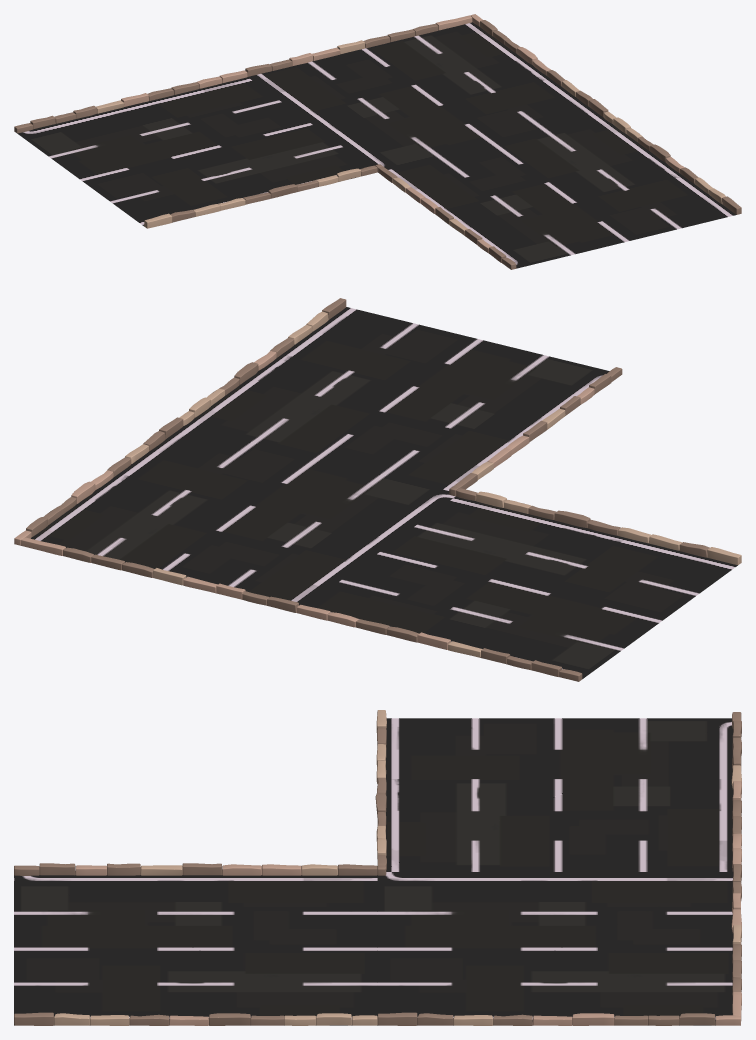
The model's file is CityRoad_90turnWide_0.fbx.
3 views of the same model, one above another, from view 1: azimuth 30°, elevation 25°; view 2: azimuth 150°, elevation 25°; view 3: azimuth 270°, elevation 25° (orthographic). The views are drawn at different scales.
Parts seen in each view (by area): view 1: CityRoad_90turnWide_0_mesh; view 2: CityRoad_90turnWide_0_mesh; view 3: CityRoad_90turnWide_0_mesh.
Boxes of the visible parts, x1=… form: CityRoad_90turnWide_0_mesh: x1=14, y1=14, x2=741, y2=269; CityRoad_90turnWide_0_mesh: x1=14, y1=298, x2=741, y2=681; CityRoad_90turnWide_0_mesh: x1=14, y1=710, x2=741, y2=1025.
Size of the model in its own units: 2006 by 28.55 by 2002.
